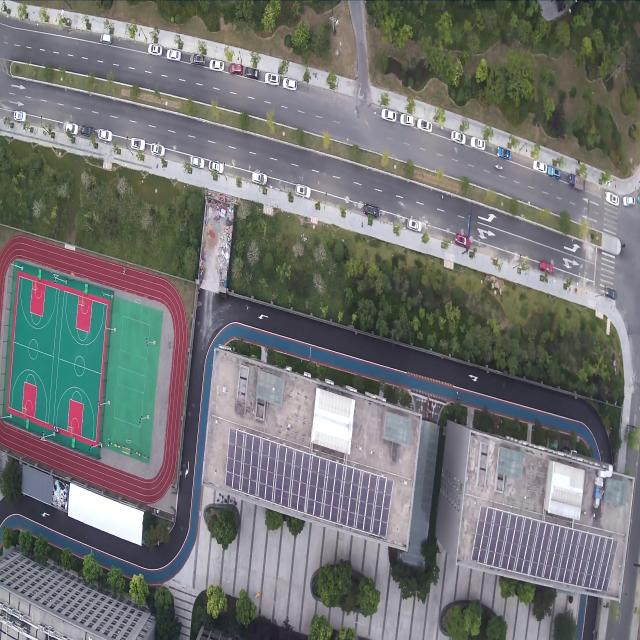drone: (246, 305, 250, 310)
